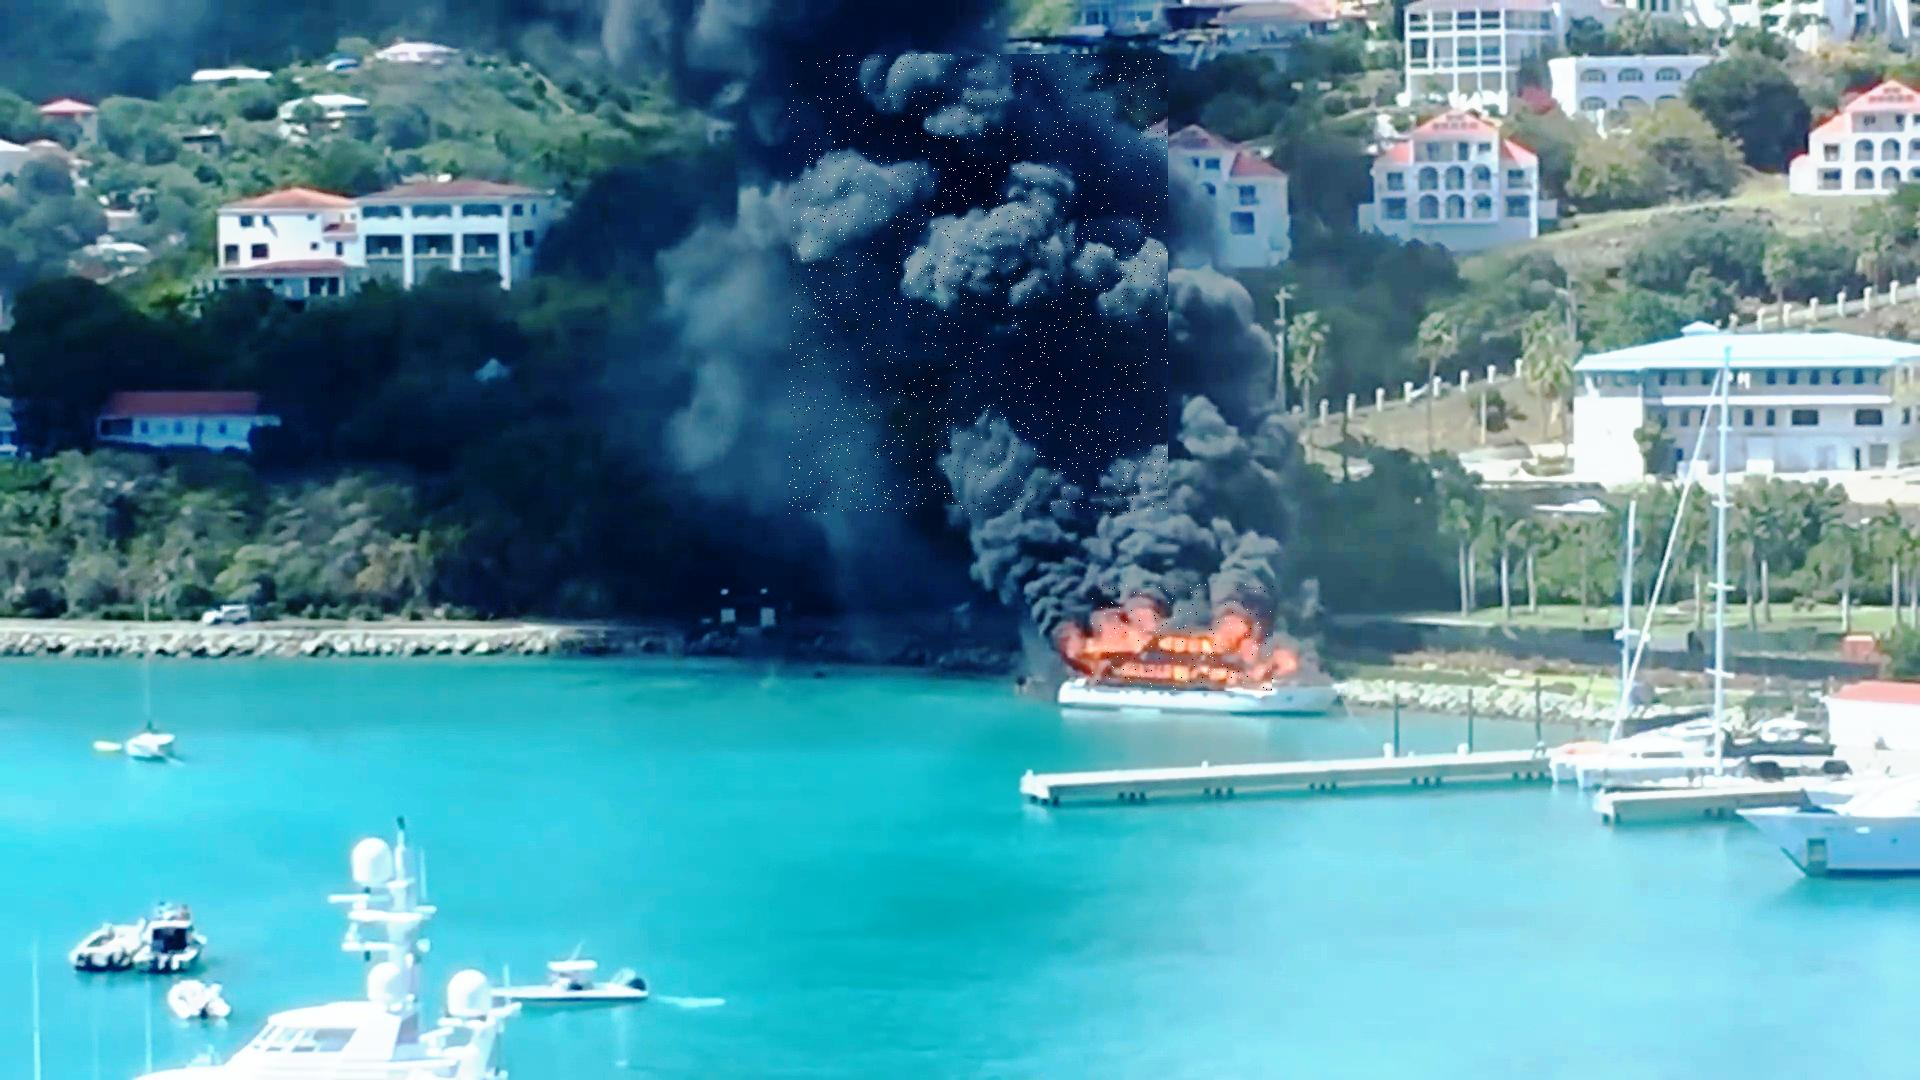fire: (1091, 584, 1274, 691)
smoke: (790, 54, 1168, 514)
